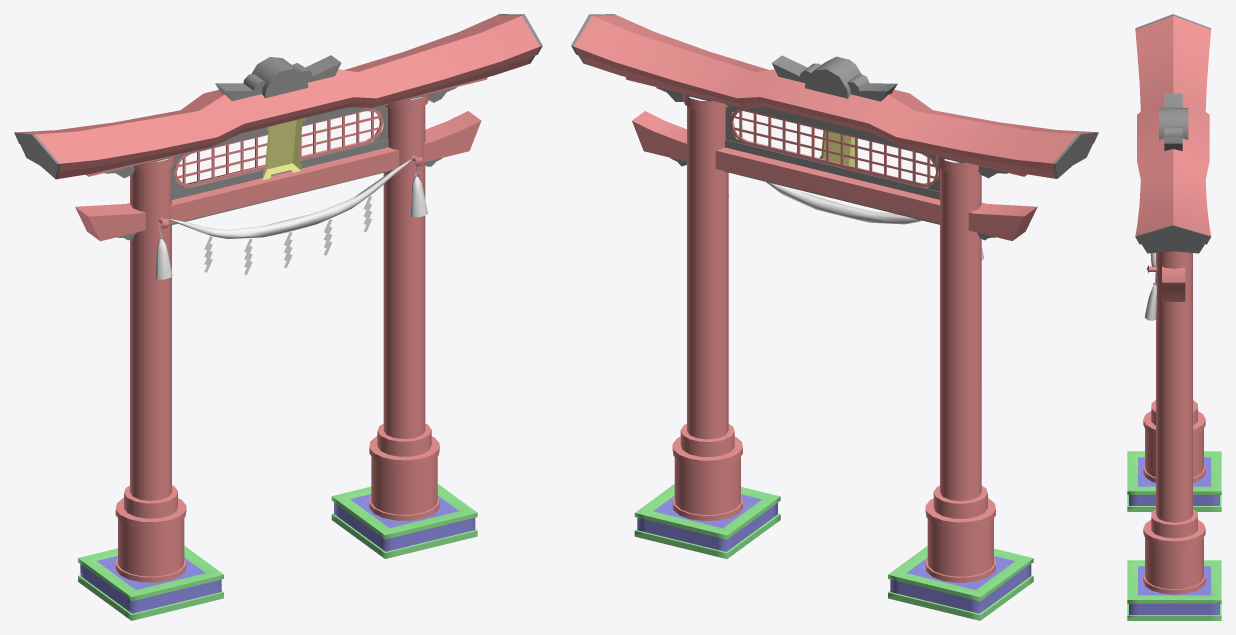
Rendered from SM_ENV_LKNVLD_Torii_Moon_Lod2.gltf.
3 renders of one model, left to right at view 1: azimuth 30°, elevation 25°; view 2: azimuth 150°, elevation 25°; view 3: azimuth 270°, elevation 25°, orthographic. The views are drawn at different scales.
Parts seen in each view (by area): view 1: SM_ENV_LKNVLD_Torii_Moon_Lod2; view 2: SM_ENV_LKNVLD_Torii_Moon_Lod2; view 3: SM_ENV_LKNVLD_Torii_Moon_Lod2.
Boxes of the visible parts, x1,y1,x2,y2 form: SM_ENV_LKNVLD_Torii_Moon_Lod2: [14, 14, 542, 620]; SM_ENV_LKNVLD_Torii_Moon_Lod2: [571, 14, 1098, 620]; SM_ENV_LKNVLD_Torii_Moon_Lod2: [1127, 14, 1221, 620].
Bounding box in the file's own units: 13.61 × 13.11 × 2.56.
